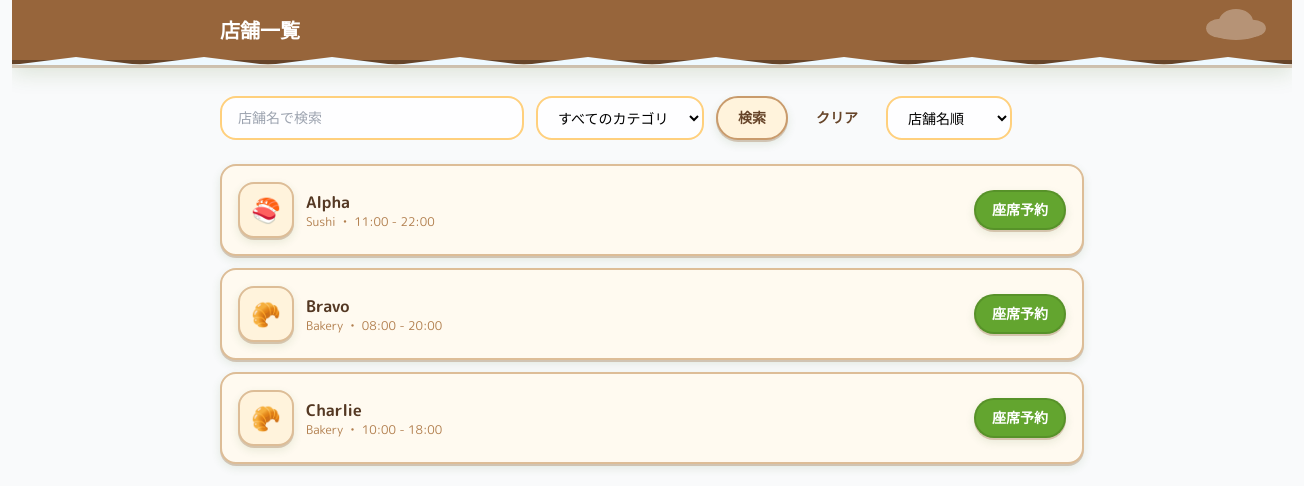
Scenario: StoresPage 検索・絞り込み・ソート › 絞り込み結果が0件のとき専用メッセージを表示する
Expected: the text "Charlie" is shown, [306,399,362,421]
Step 1. Type "存在しない店舗名" into the field with placeholder "店舗名で検索" → (372, 118), box [220,96,524,140]
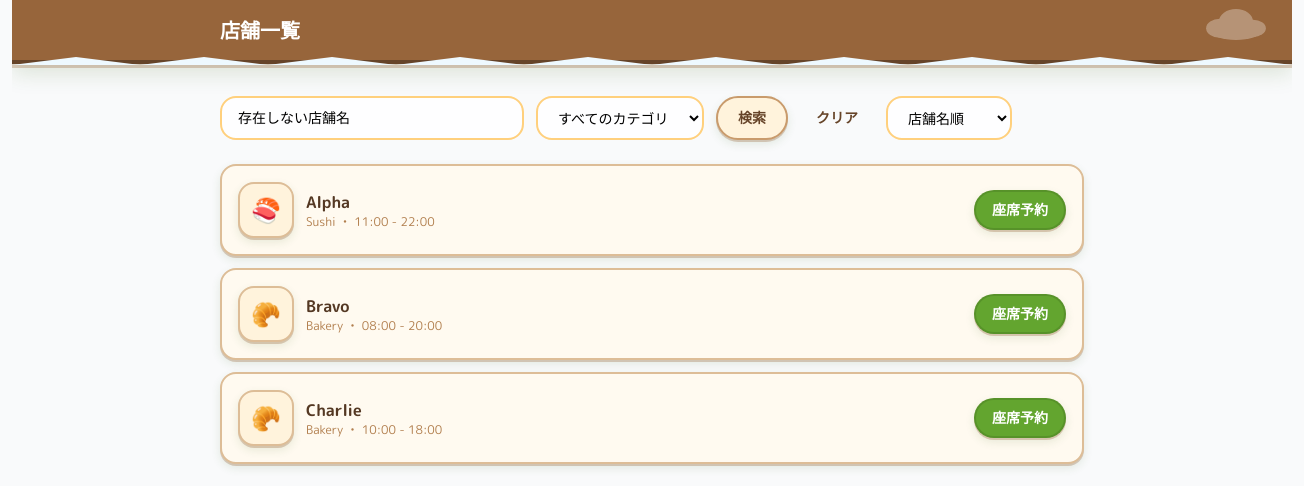
Step 2. Click the button "検索" → (752, 118), box [716,96,788,140]
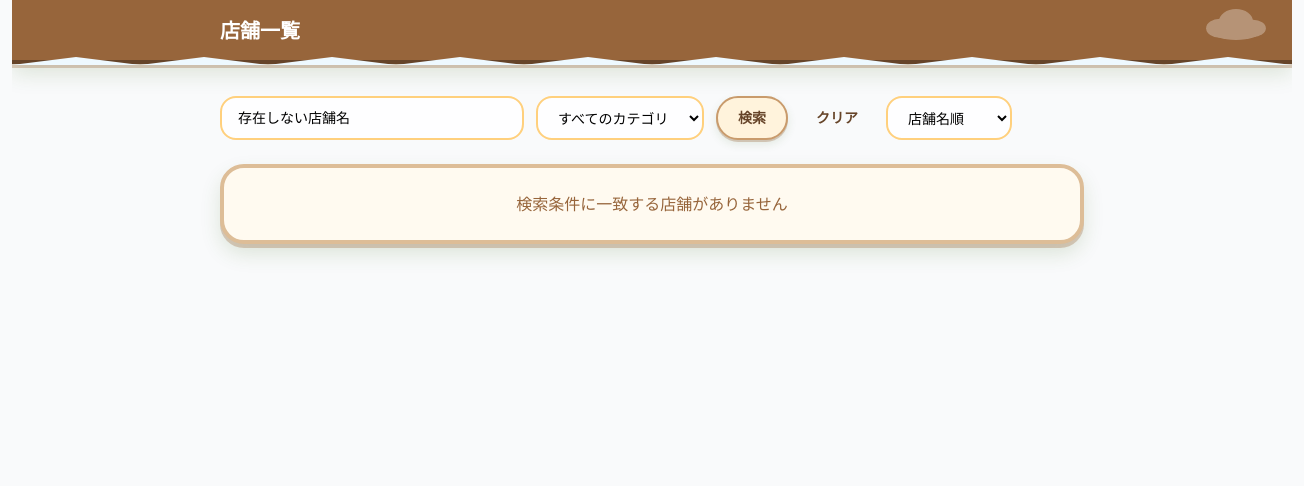
Expected: the text "検索条件に一致する店舗がありません" is shown, [220,164,1084,244]
